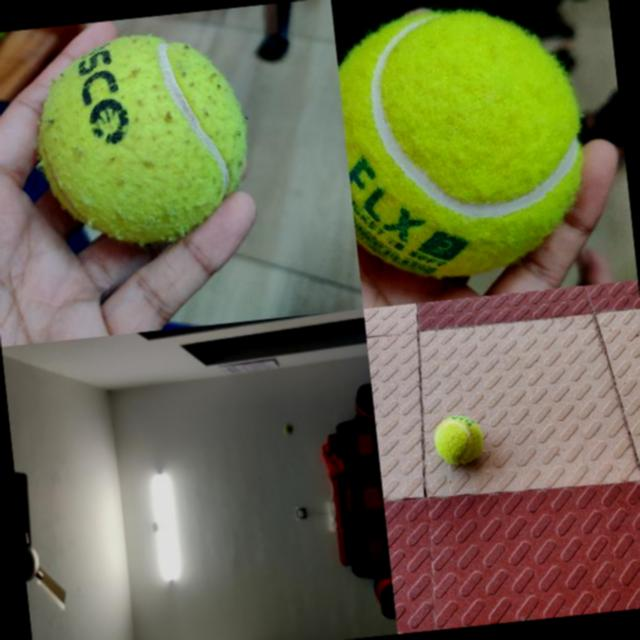tennis-ball: (333, 0, 594, 284), (25, 23, 258, 253), (431, 413, 484, 466), (282, 422, 294, 434)
